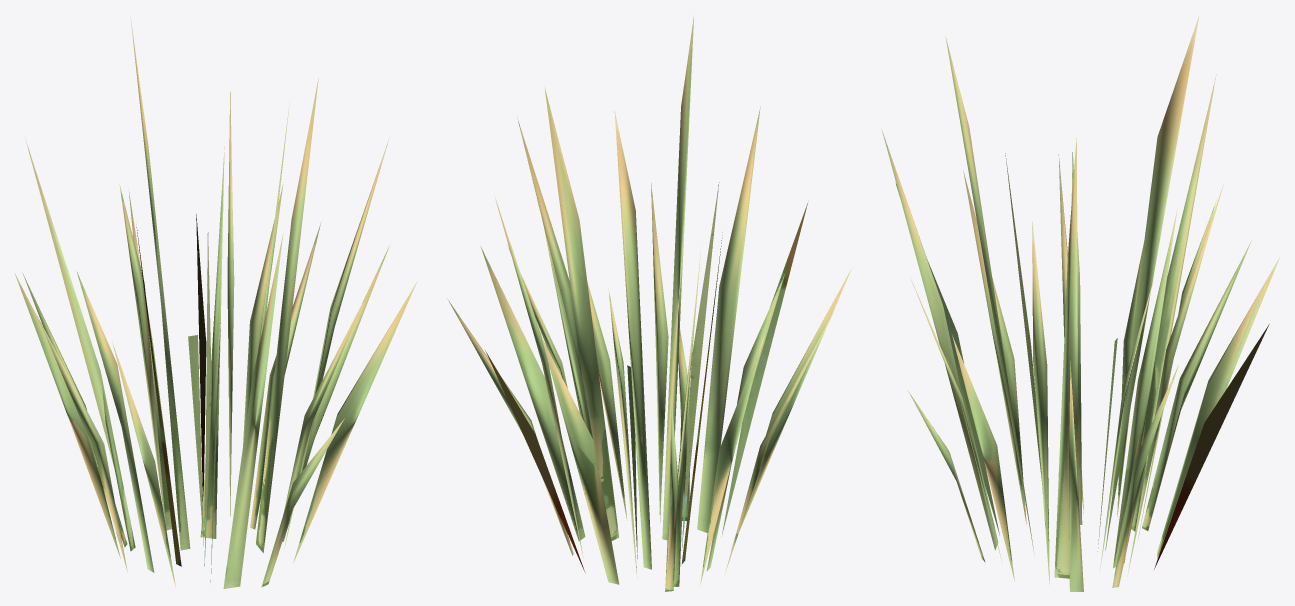
The model's file is grass_coastal.glb.
3 renders of one model, left to right at view 1: azimuth 30°, elevation 25°; view 2: azimuth 150°, elevation 25°; view 3: azimuth 270°, elevation 25°, orthographic. The views are drawn at different scales.
Bounding box in the file's own units: 0.7095 × 0.9512 × 0.6484.
Materials: 1 (1 with a texture image).
